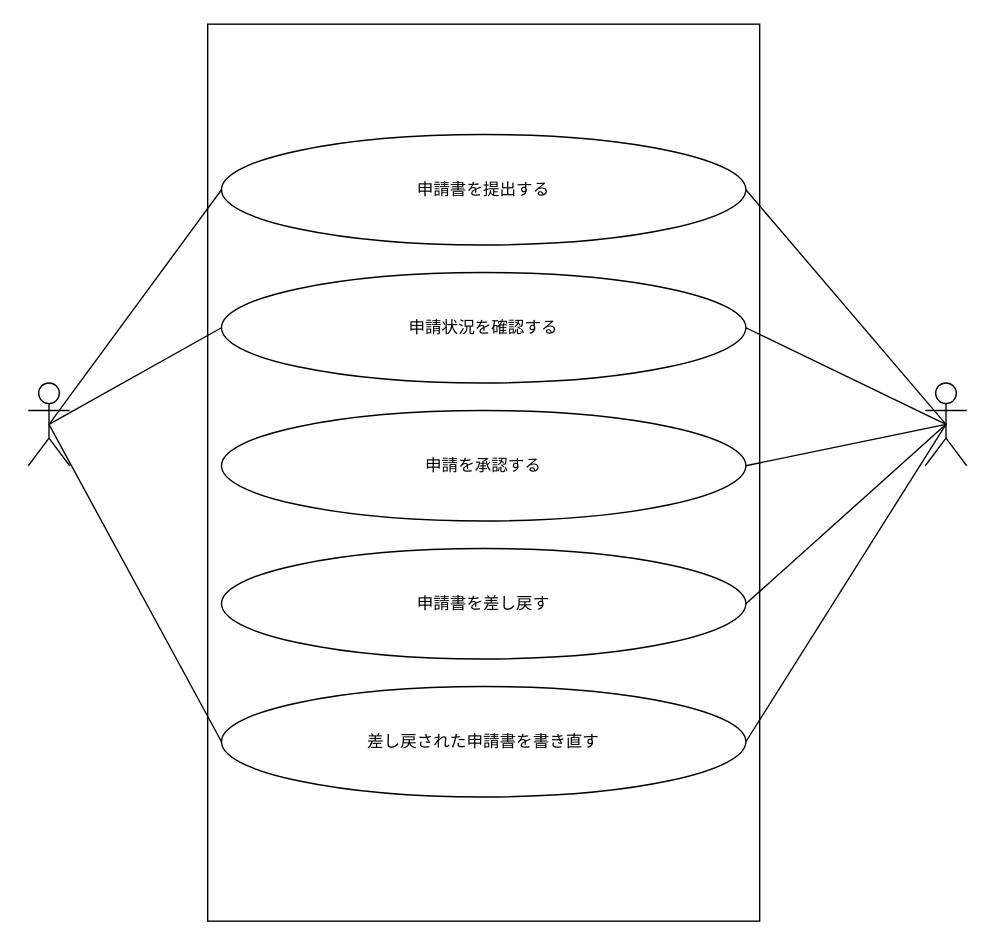
This 994x945 diagram has some shape labels left out. The shapes that lost their labels are listed below. From the top down, each one's box as (x1, y1, x2, y2) in pixels, then its label:
(27, 382, 70, 466): 申請者
(924, 382, 967, 466): 承認者
(206, 23, 760, 921): 社内経費精算アプリ
